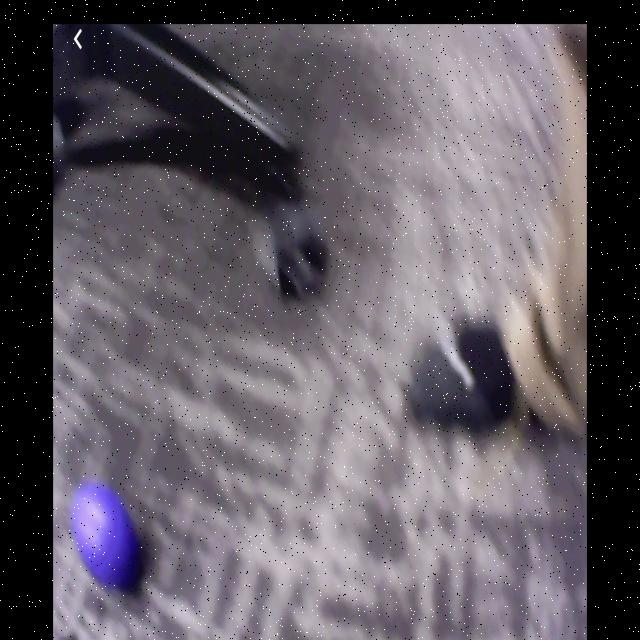ball: (77, 488, 136, 588)
